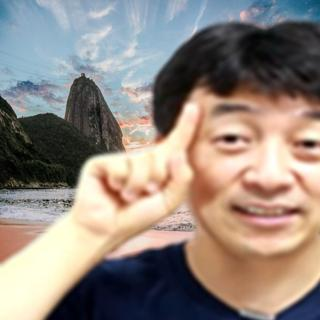IRRITATED: (68, 99, 203, 245)
